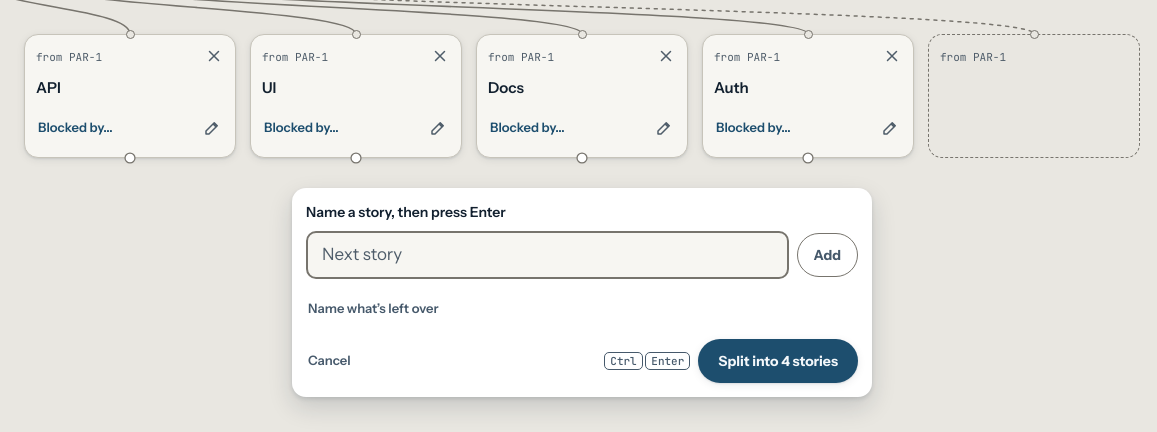
Test: closes on Escape and gives focus back to the card's own control
Click the button with aria-label "Set what Docs is blocked by" at (527, 128), box [488,106,567,150]
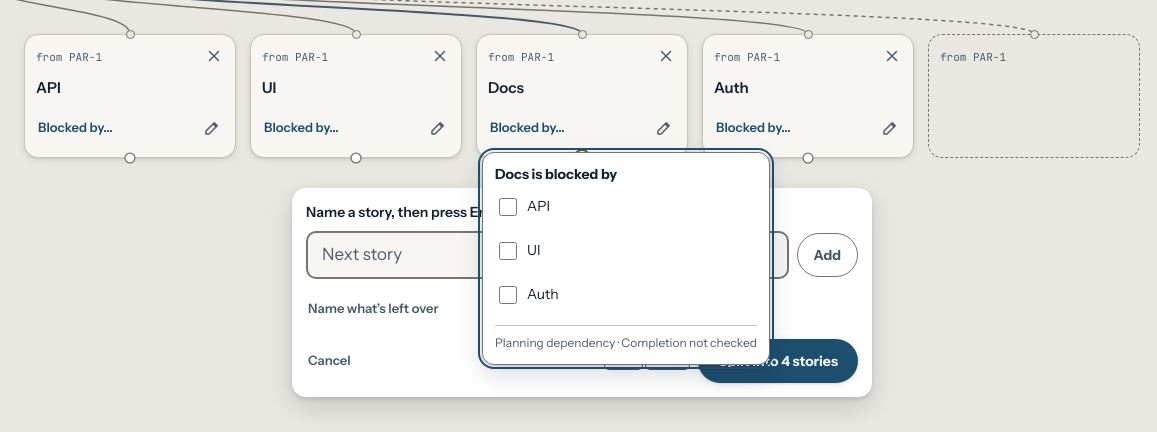
Press Escape
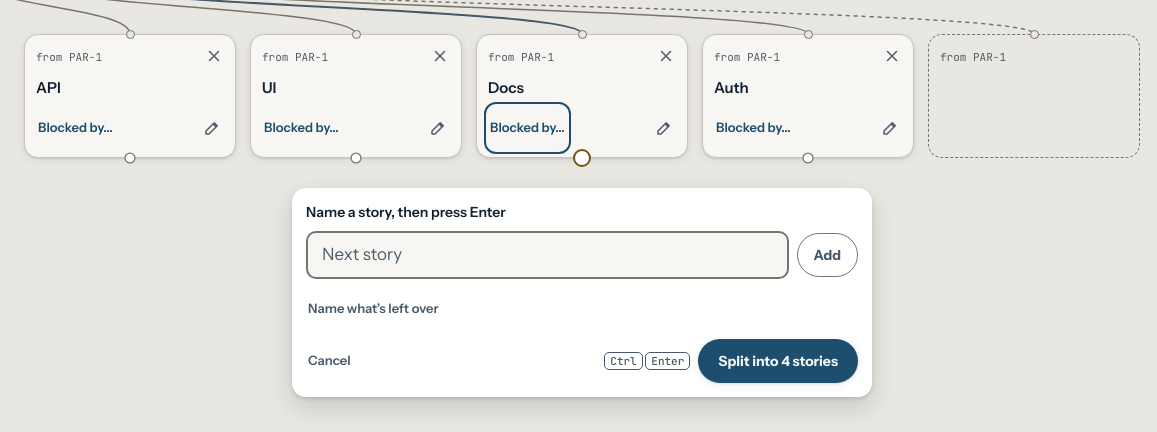
expect the text "Docs is blocked by" is gone: met
